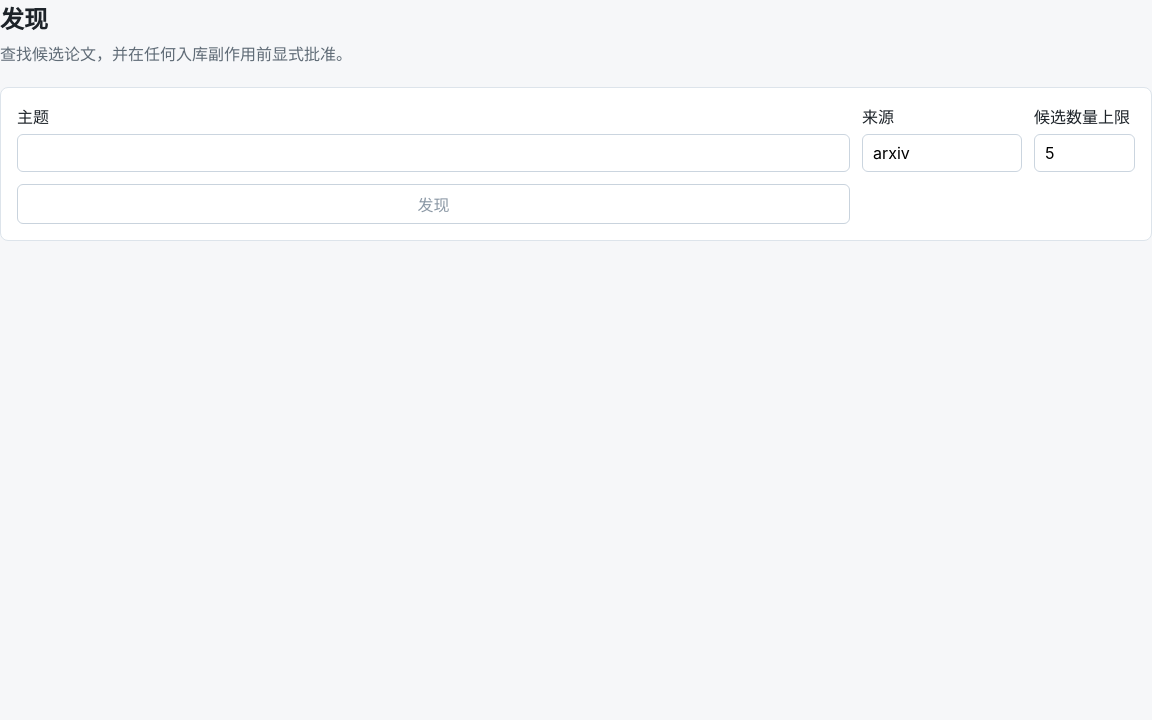
Scenario: Overview and Library pages › discover requires approval before candidate ingest
Step 1. Type "agentic rag" into the field labelled "主题" → (434, 153), box [17, 134, 850, 172]
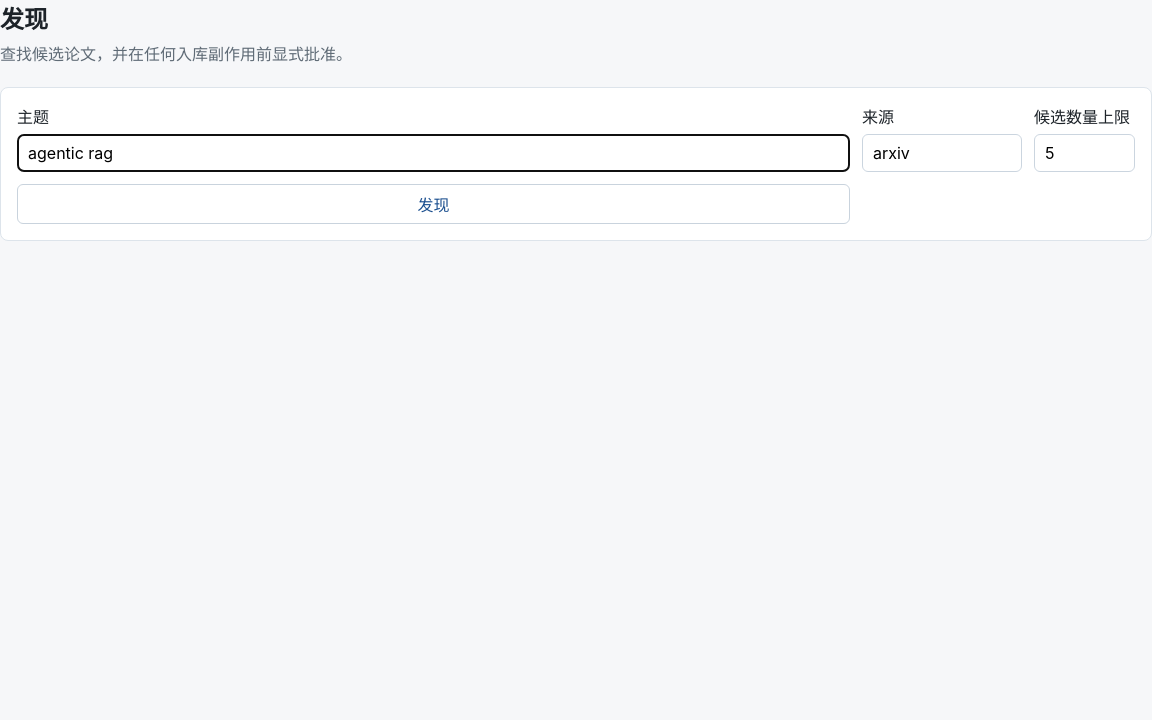
Step 2. Click the button "发现" → (434, 204), box [17, 184, 850, 224]
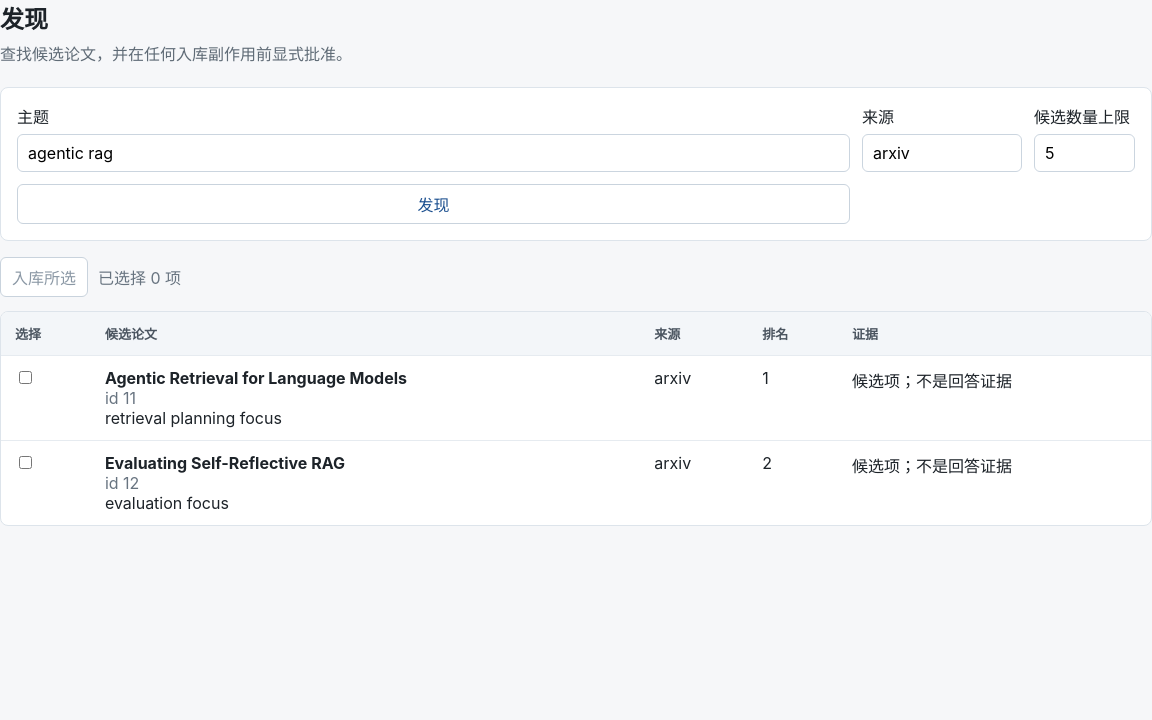
Result: the text "Agentic Retrieval for Language Models" is shown at [105, 368, 407, 388]
Step 3. Click the checkbox named "选择候选 11" → (26, 378), box [19, 371, 32, 384]
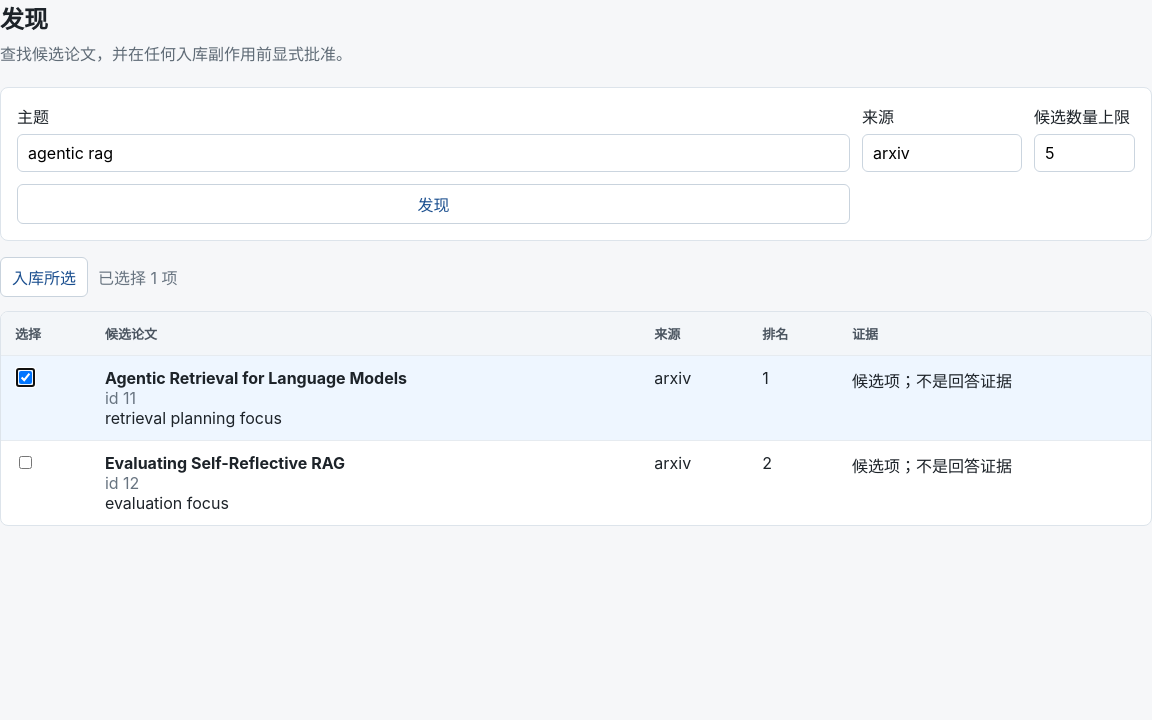
Step 4. Click the button "入库所选" → (44, 277), box [0, 257, 88, 297]
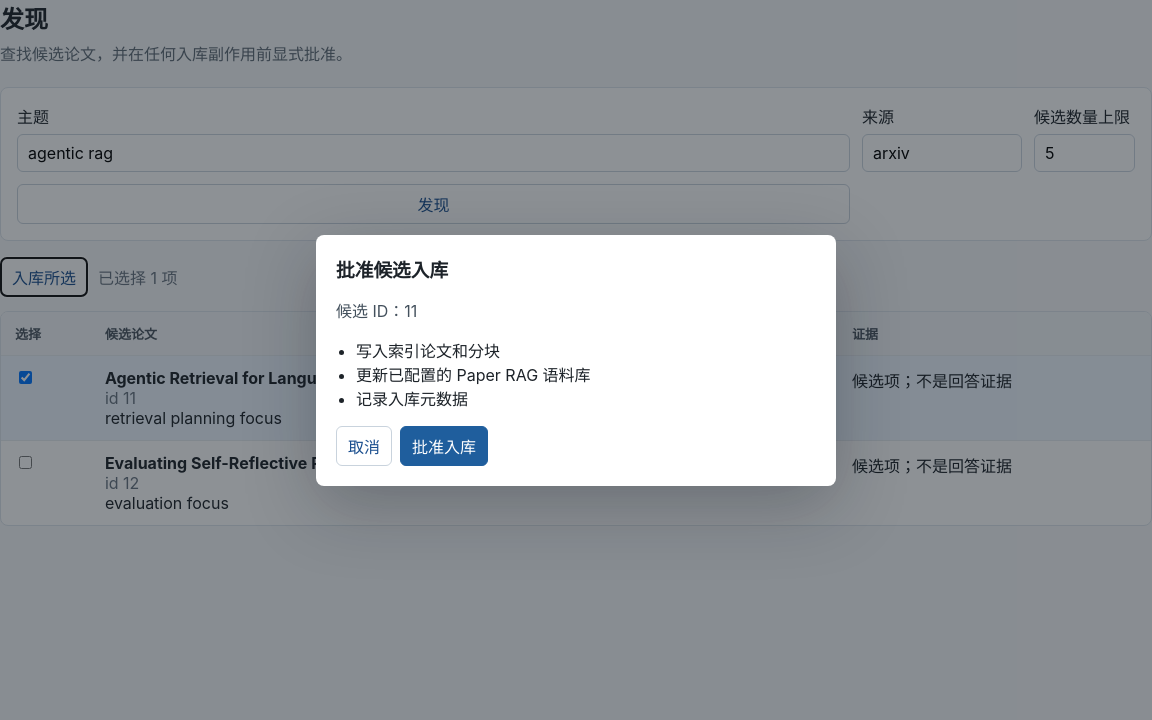
Result: the list item "写入索引论文和分块" is shown at [356, 340, 500, 360]
Step 5. Click the button "批准入库" → (444, 446), box [400, 426, 488, 466]
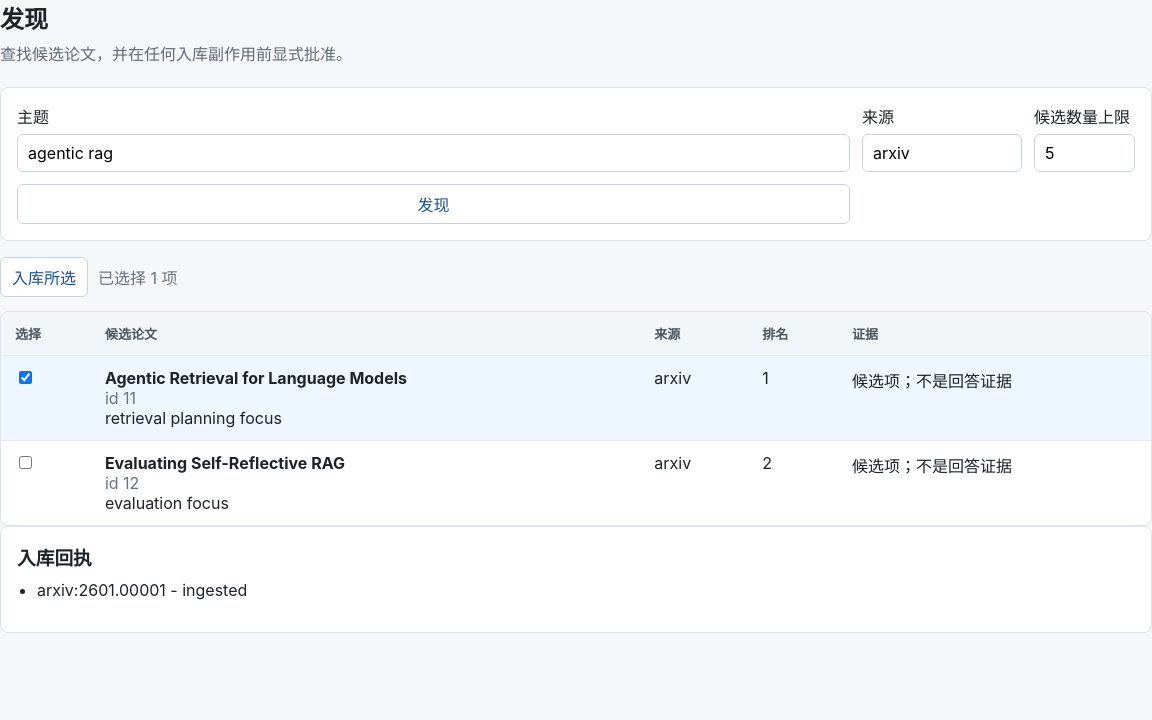
Result: the list item "arxiv:2601.00001 - ingested" is shown at [37, 580, 247, 600]
